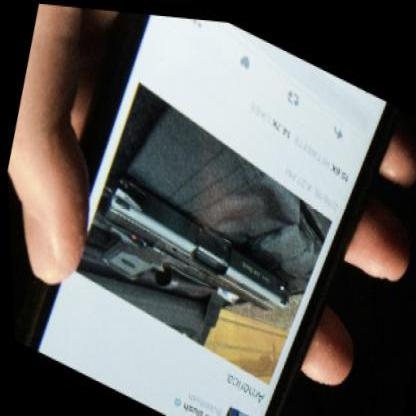pistol: (81, 160, 299, 350)
